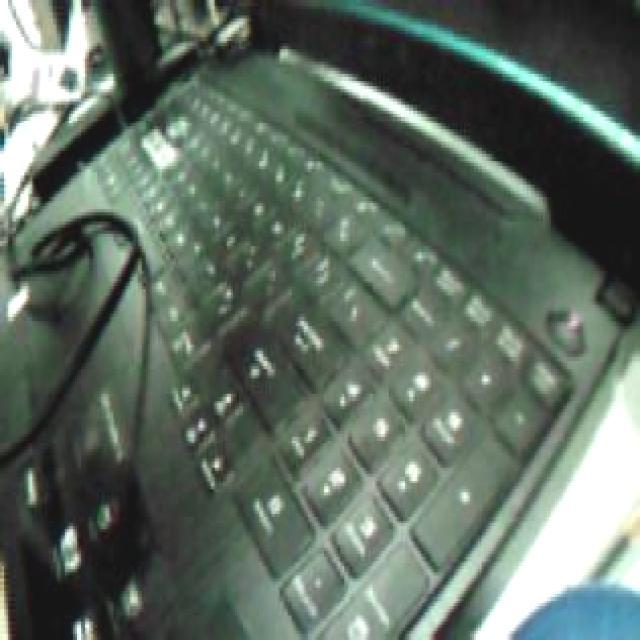BallPurple: (507, 583, 640, 640)
